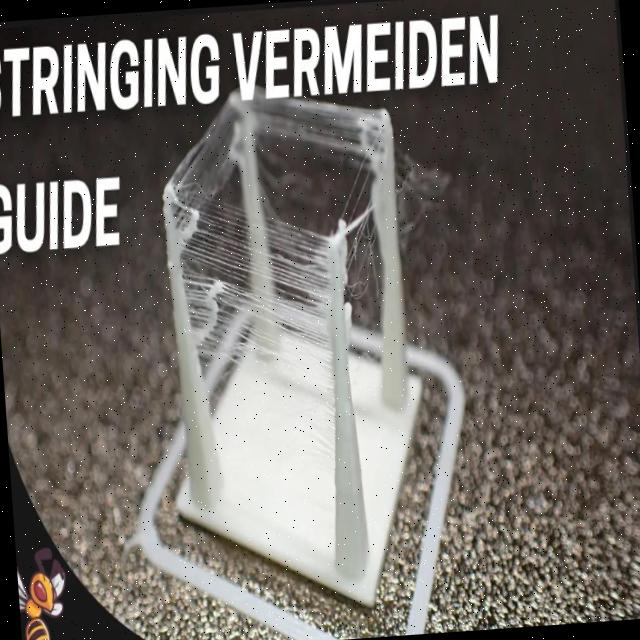stringing: (174, 199, 333, 432), (172, 96, 236, 260), (252, 96, 378, 168), (340, 191, 378, 311)
